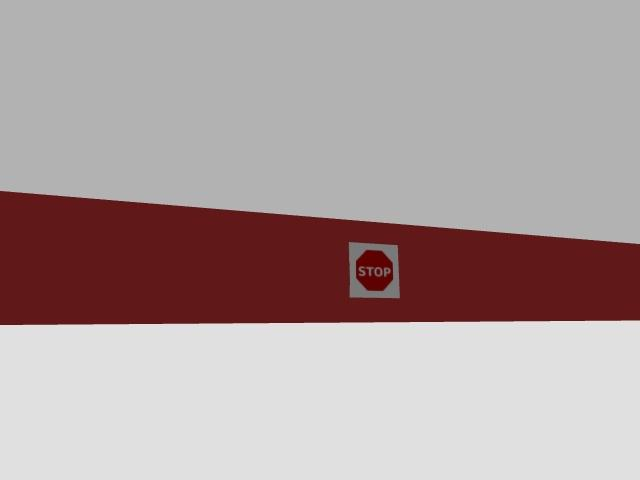stop: (350, 242, 398, 298)
